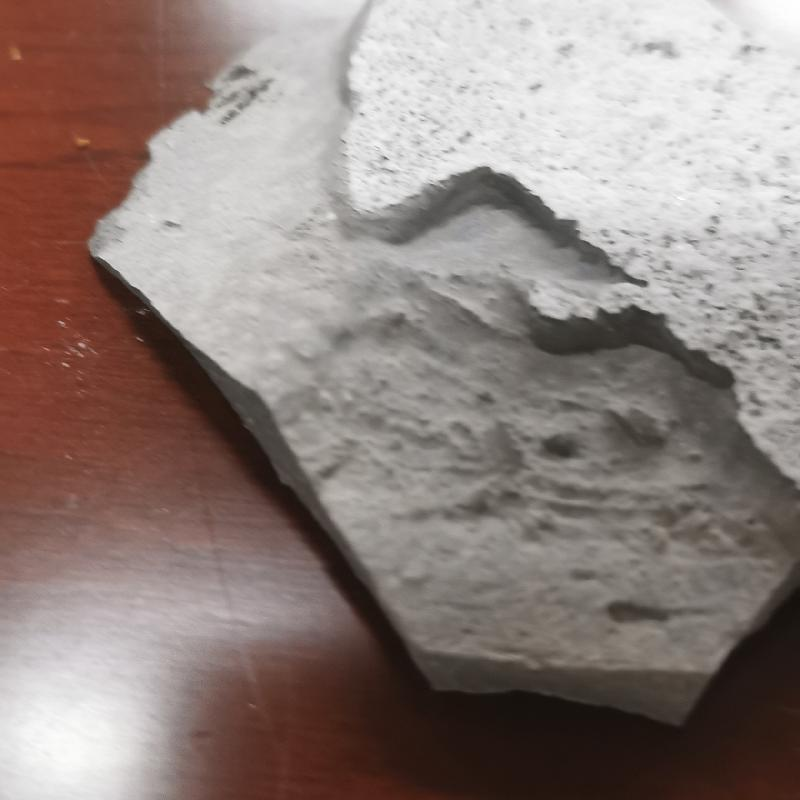tile: (91, 5, 800, 715)
